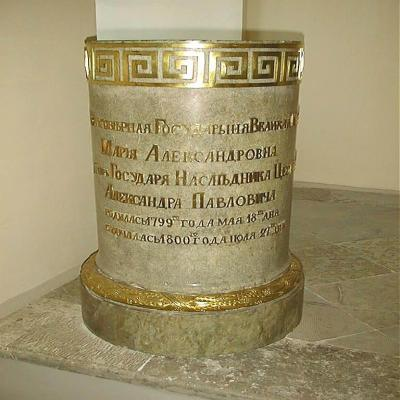sculpture: (78, 31, 305, 360)
